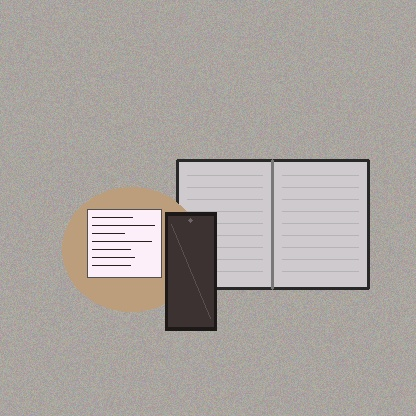book: (177, 160, 368, 288)
cell_phone: (165, 212, 216, 330)
exam_chit: (87, 209, 161, 277)
